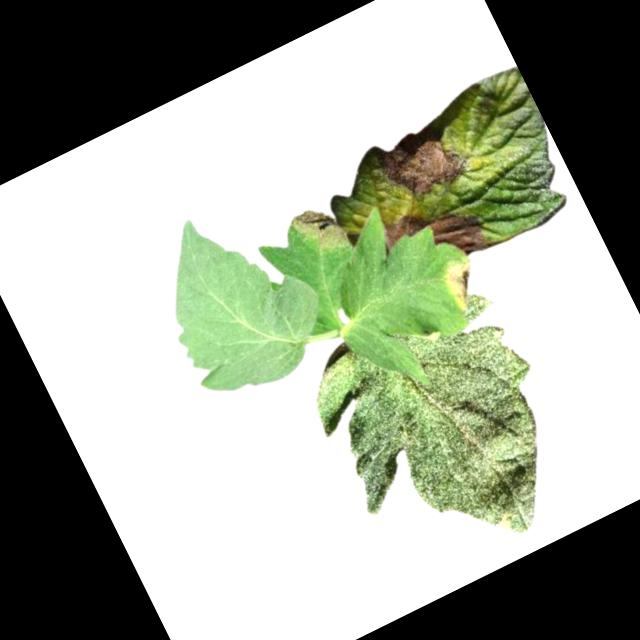Late_blight: (375, 119, 472, 206), (425, 200, 495, 268), (288, 197, 353, 266), (439, 254, 490, 313), (375, 203, 434, 253)
healthy: (298, 283, 596, 592), (131, 181, 345, 413)
